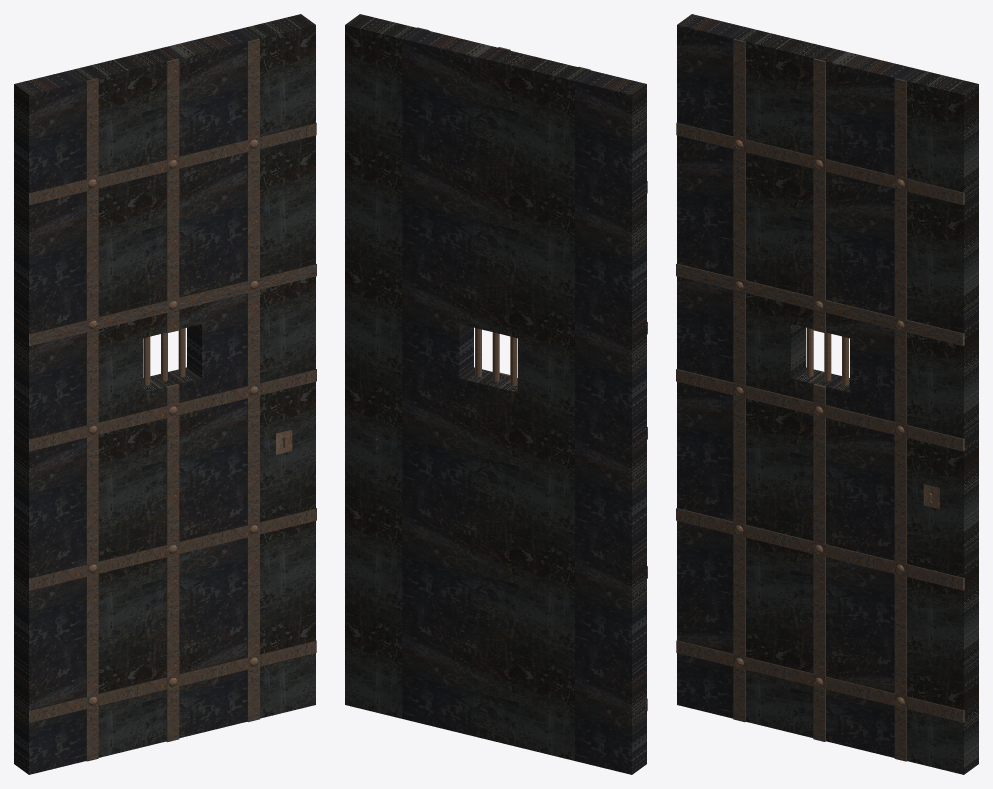
The model's file is ext_door.FBX.
3 views of the same model, side by side, from view 1: azimuth 30°, elevation 25°; view 2: azimuth 150°, elevation 25°; view 3: azimuth 330°, elevation 25° (orthographic).
Visible parts, largest first — view 1: Box001; view 2: Box001; view 3: Box001.
Boxes of the visible parts, left/top/right/bottom form: Box001: left=14, top=14, right=316, bottom=774; Box001: left=345, top=14, right=647, bottom=774; Box001: left=676, top=14, right=978, bottom=774.
Bounding box in the file's own units: 36.47 × 3.78 × 82.57.
Materials: 3 (3 with a texture image).
